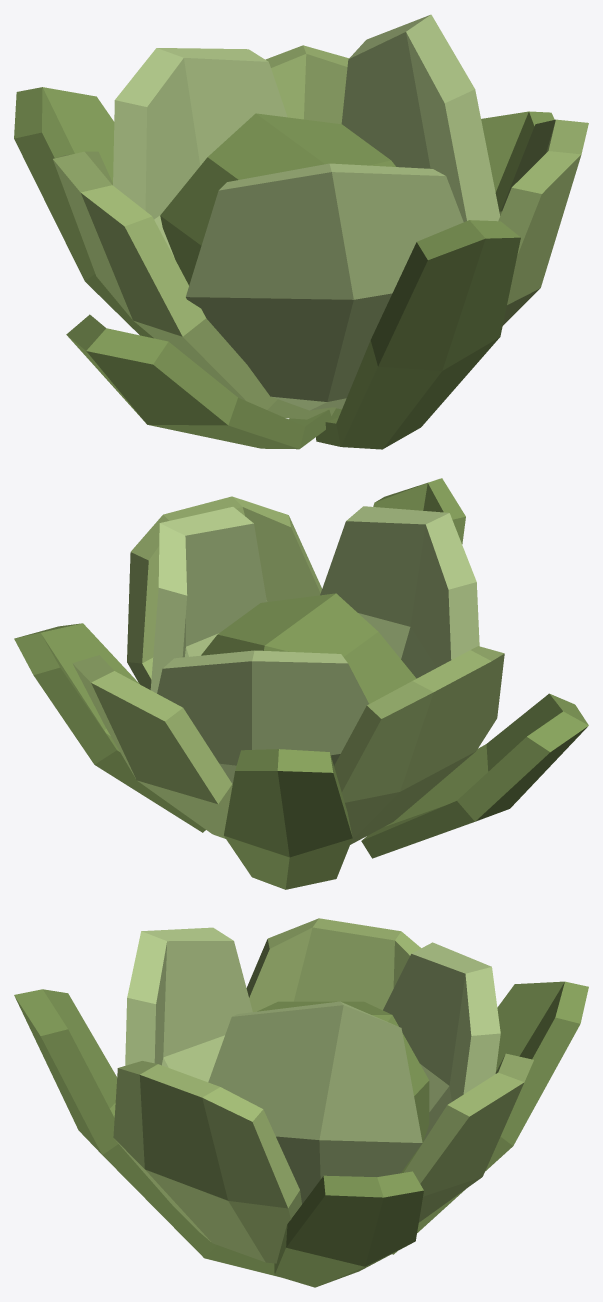
File: SM_Env_Plant_Lettuce_01.fbx
The picture shows the model from 3 angles, top to bottom: view 1: azimuth 30°, elevation 25°; view 2: azimuth 150°, elevation 25°; view 3: azimuth 270°, elevation 25°; orthographic projection. The views are drawn at different scales.
Visible parts, largest first — view 1: SM_Env_Plant_Lettuce_01; view 2: SM_Env_Plant_Lettuce_01; view 3: SM_Env_Plant_Lettuce_01.
Part boxes in pixels (x1=…): SM_Env_Plant_Lettuce_01: x1=14, y1=14, x2=588, y2=449; SM_Env_Plant_Lettuce_01: x1=14, y1=478, x2=588, y2=889; SM_Env_Plant_Lettuce_01: x1=14, y1=918, x2=588, y2=1287.
Bounding box in the file's own units: 36.18 × 22.7 × 36.7.
